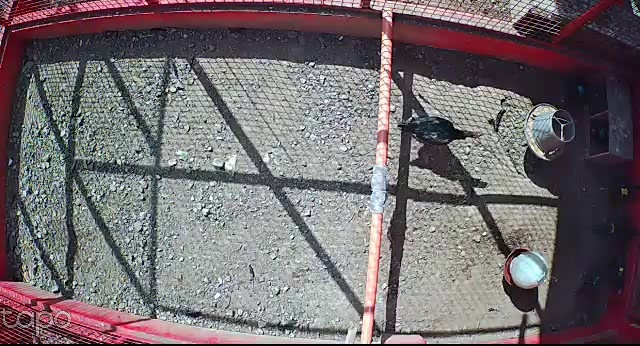Chicken: (396, 106, 482, 148), (600, 175, 640, 211)
Drinker: (502, 248, 549, 291)
Feeder: (523, 101, 577, 165)
Rooster: (587, 213, 640, 244)
Saddle_Color_Yellow: (620, 186, 630, 198)
